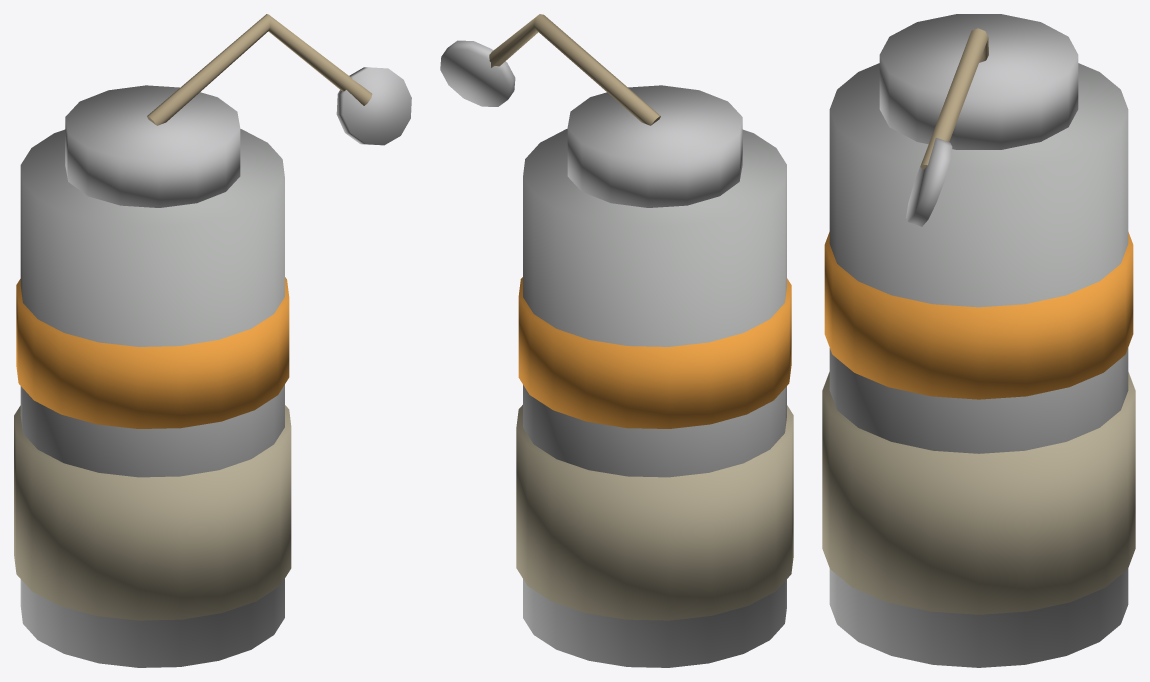
File: Item_smoke_bomb.fbx
3 renders of one model, left to right at view 1: azimuth 30°, elevation 25°; view 2: azimuth 150°, elevation 25°; view 3: azimuth 270°, elevation 25°, orthographic. The views are drawn at different scales.
Visible parts, largest first — view 1: model.018, ring; view 2: model.018, ring; view 3: model.018, ring.
Boxes of the visible parts, box(x1,y1,x2,y2) form: model.018: box(14, 85, 291, 667); ring: box(147, 14, 411, 145); model.018: box(516, 85, 793, 667); ring: box(440, 14, 660, 125); model.018: box(822, 14, 1135, 667); ring: box(906, 28, 988, 226).
Size of the model in its own units: 0.0925 by 0.142 by 0.063.
